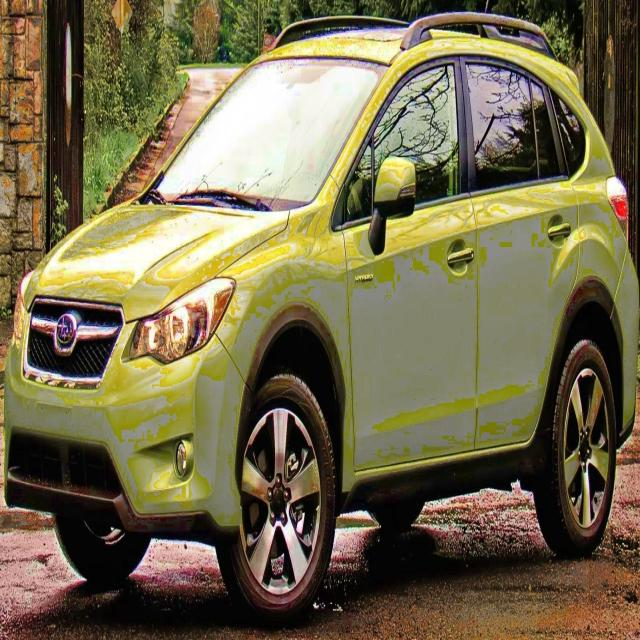green: (5, 19, 640, 611)
